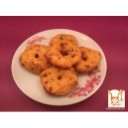vada: (41, 65, 78, 94), (20, 43, 49, 72), (49, 42, 81, 67), (75, 45, 100, 71), (51, 33, 79, 47)
